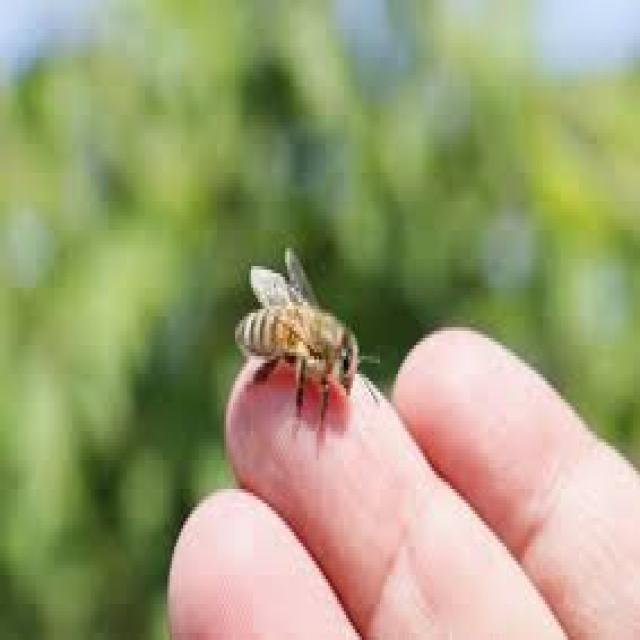Bees: (236, 248, 382, 440)
